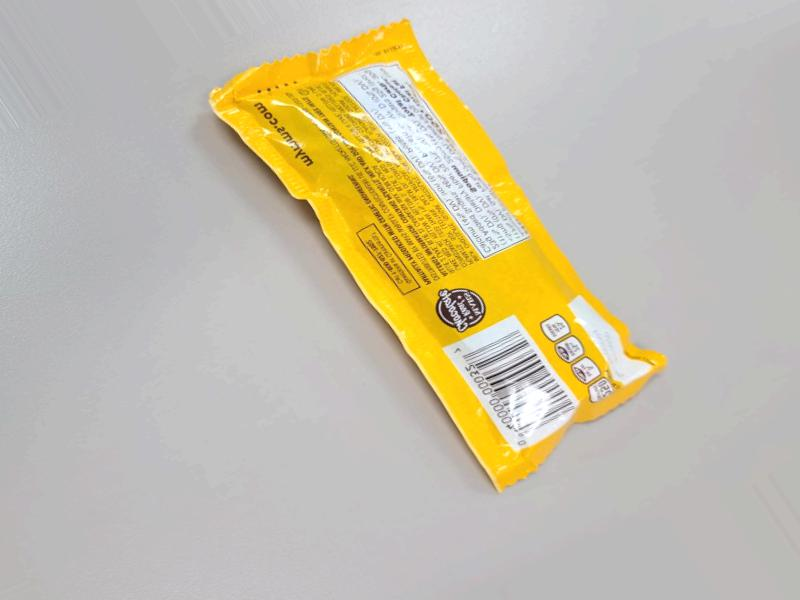m&m: (274, 142, 710, 501)
